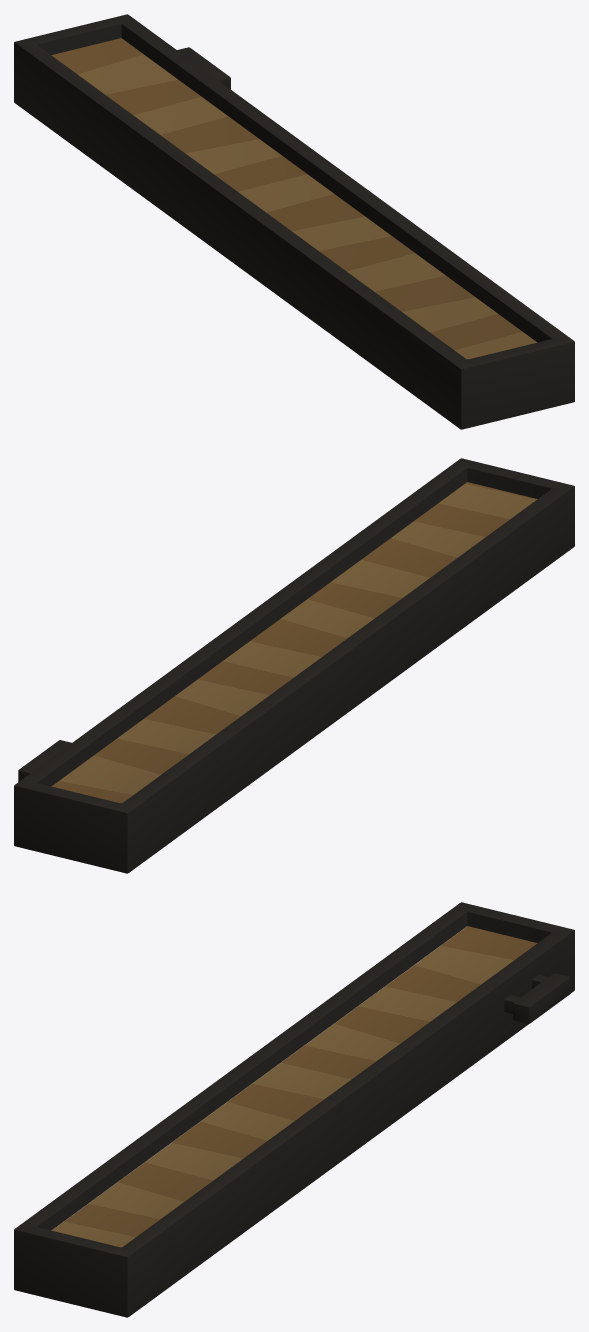
Rendered from DefaultLevel_ConveyerBelt.fbx.
3 views of the same model, one above another, from view 1: azimuth 30°, elevation 25°; view 2: azimuth 150°, elevation 25°; view 3: azimuth 330°, elevation 25° (orthographic).
Visible parts, largest first — view 1: DefaultLevel_ConveyerBelt; view 2: DefaultLevel_ConveyerBelt; view 3: DefaultLevel_ConveyerBelt.
Boxes of the visible parts, x1,y1,x2,y2 form: DefaultLevel_ConveyerBelt: (14,14,574,429); DefaultLevel_ConveyerBelt: (14,458,574,873); DefaultLevel_ConveyerBelt: (14,902,574,1317).
Size of the model in its own units: 250 by 102 by 1356.
